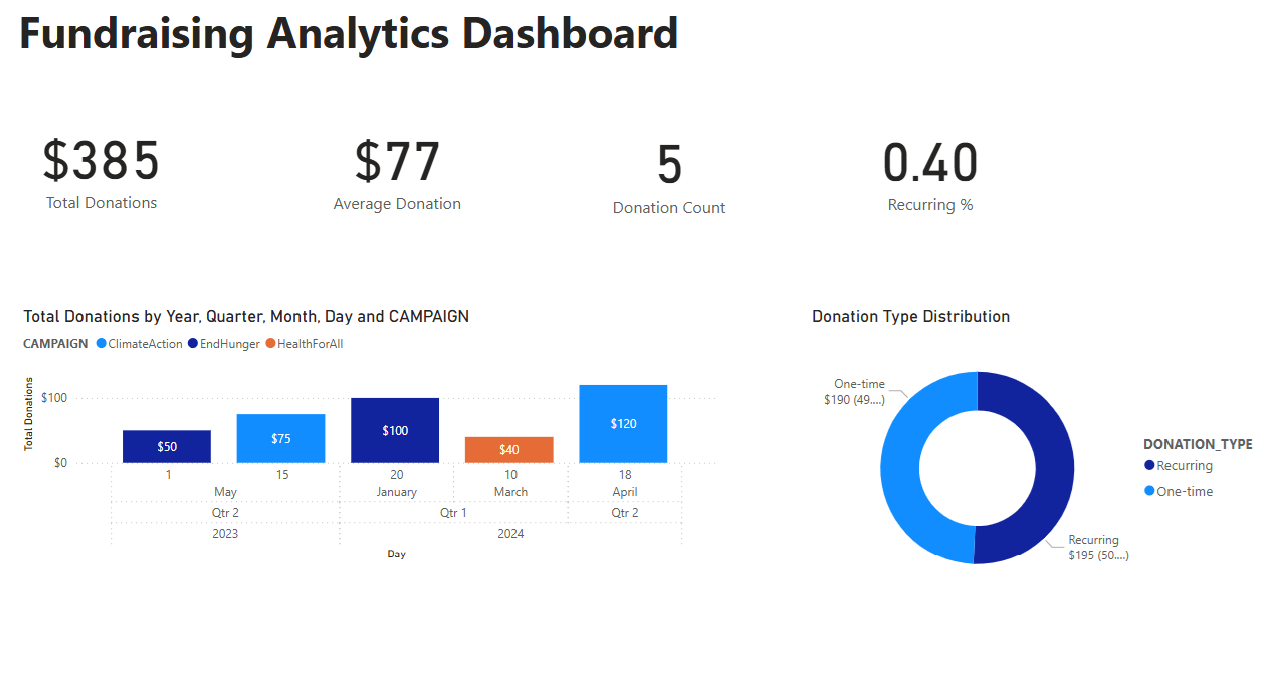

What the dashboard file says about the page in this screenshot:
{"tool":"powerbi","page":{"name":"Page 1","canvas":[1280,720],"ordinal":0},"visuals":[{"type":"card","fields":{"Values":["DONATIONS.Total Donations"]},"box":[43.8,97.5,138.8,146.2],"z":0},{"type":"card","fields":{"Values":["DONATIONS.Average Donation"]},"box":[330,92.5,155,158.8],"z":1000},{"type":"card","fields":{"Values":["DONATIONS.Donation Count"]},"box":[606.2,106.2,143.8,137.5],"z":2000},{"type":"card","fields":{"Values":["DONATIONS.Recurring %"]},"box":[881.2,115,113.8,115],"z":3000},{"type":"columnChart","fields":{"Series":["DONATIONS.CAMPAIGN"],"Y":["DONATIONS.Total Donations"],"Category":["DONATIONS.DONATION_DATE.Variation.Date Hierarchy.Year","DONATIONS.DONATION_DATE.Variation.Date Hierarchy.Quarter","DONATIONS.DONATION_DATE.Variation.Date Hierarchy.Month","DONATIONS.DONATION_DATE.Variation.Date Hierarchy.Day"]},"box":[30,312.5,700,261.2],"z":4000},{"type":"donutChart","title":"Donation Type Distribution ","fields":{"Category":["DONATIONS.DONATION_TYPE"],"Y":["DONATIONS.Total Donations"]},"box":[815,312.5,465,308.8],"z":5000},{"type":"textbox","box":[25,2.5,1052.5,72.5],"z":6001}]}

Visuals, with their boxes in screenshot pixels (x1, y1, x2, y2), scaled from the page's 1280x720 canvas onto the 1261x694 screenshot:
card - DONATIONS.Total Donations: detection(43, 94, 180, 235)
card - DONATIONS.Average Donation: detection(325, 89, 478, 242)
card - DONATIONS.Donation Count: detection(597, 102, 739, 235)
card - DONATIONS.Recurring %: detection(868, 111, 980, 222)
columnChart - DONATIONS.CAMPAIGN x DONATIONS.Total Donations: detection(30, 301, 719, 553)
"Donation Type Distribution " donutChart: detection(803, 301, 1260, 599)
textbox: detection(25, 2, 1062, 72)
